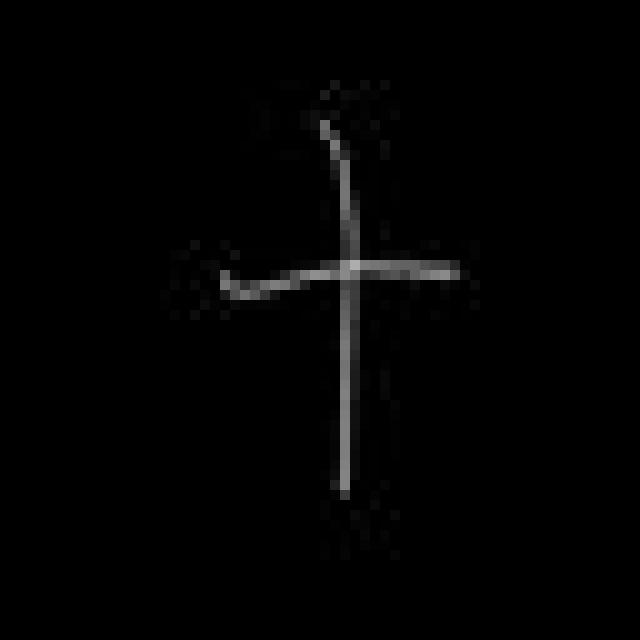10 -ten-: (202, 104, 468, 509)
